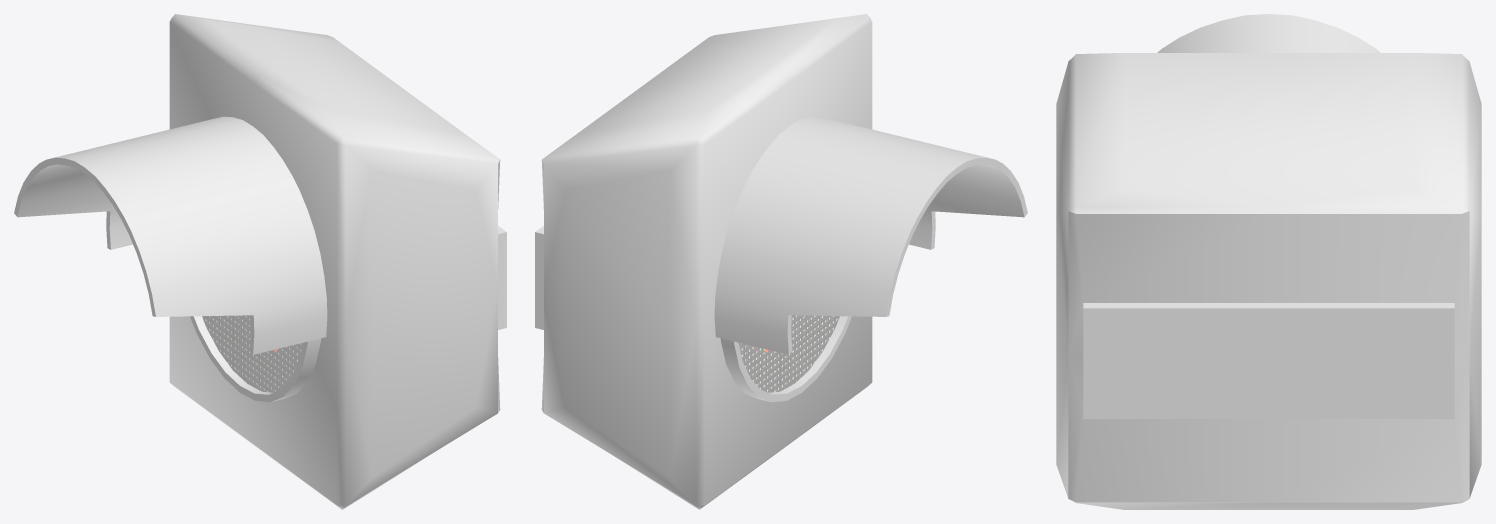
File: 车道信号灯_RedLight.glb
The picture shows the model from 3 angles, left to right: view 1: azimuth 30°, elevation 25°; view 2: azimuth 150°, elevation 25°; view 3: azimuth 270°, elevation 25°; orthographic projection. The views are drawn at different scales.
Parts seen in each view (by area): view 1: 车道信号灯_RedLight; view 2: 车道信号灯_RedLight; view 3: 车道信号灯_RedLight.
Part boxes in pixels (x1,y1,x2,y2): 车道信号灯_RedLight: [14, 14, 506, 509]; 车道信号灯_RedLight: [535, 14, 1027, 509]; 车道信号灯_RedLight: [1056, 14, 1481, 509].
Bounding box in the file's own units: 0.6 × 0.65 × 0.5618.
Materials: 3 (2 with a texture image).
